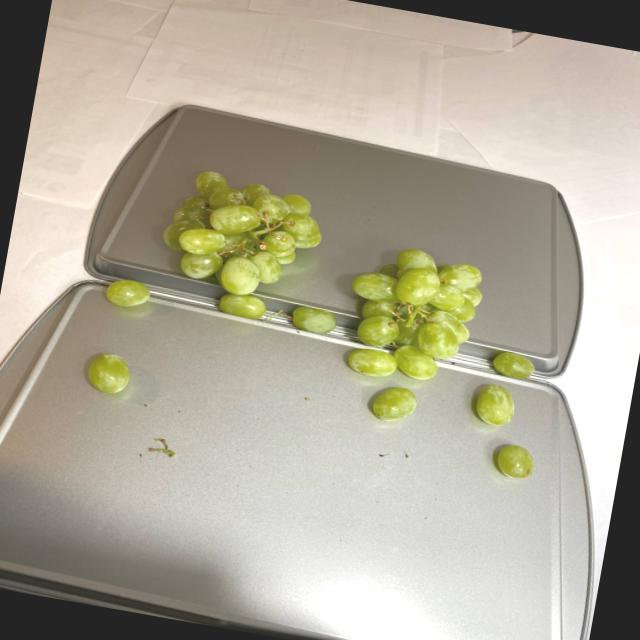grapes: (88, 157, 568, 480)
